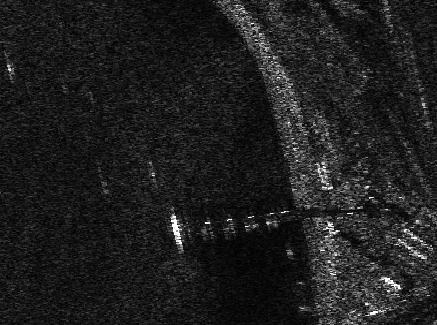ship: (168, 212, 185, 255)
